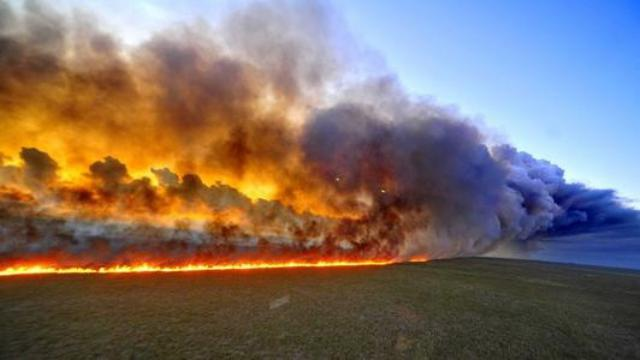fire: (2, 247, 444, 274)
